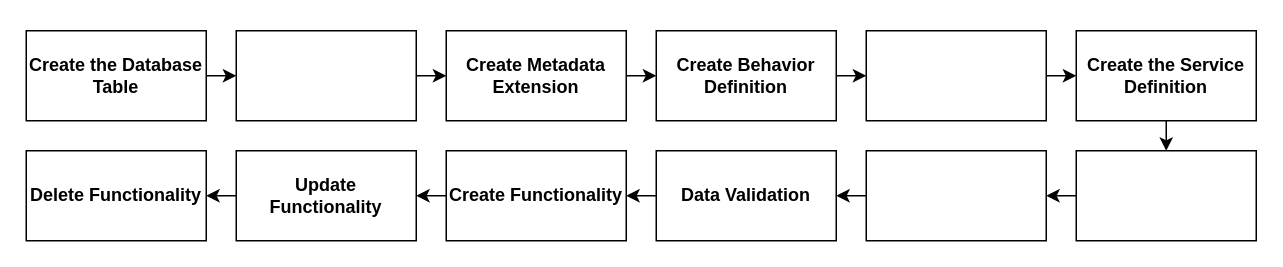
Some shapes in this 1283 by 267 pixel diagram are drawn without their labels. Here are the shapes that lost their labels. From the top down, the box of each, then its label:
(235, 29, 416, 121): Create the Root View Entity CDS
(865, 29, 1046, 121): Create the Behavior Implementation Class
(865, 149, 1046, 241): Read Functionality
(1075, 149, 1256, 241): Create the Service Binding
